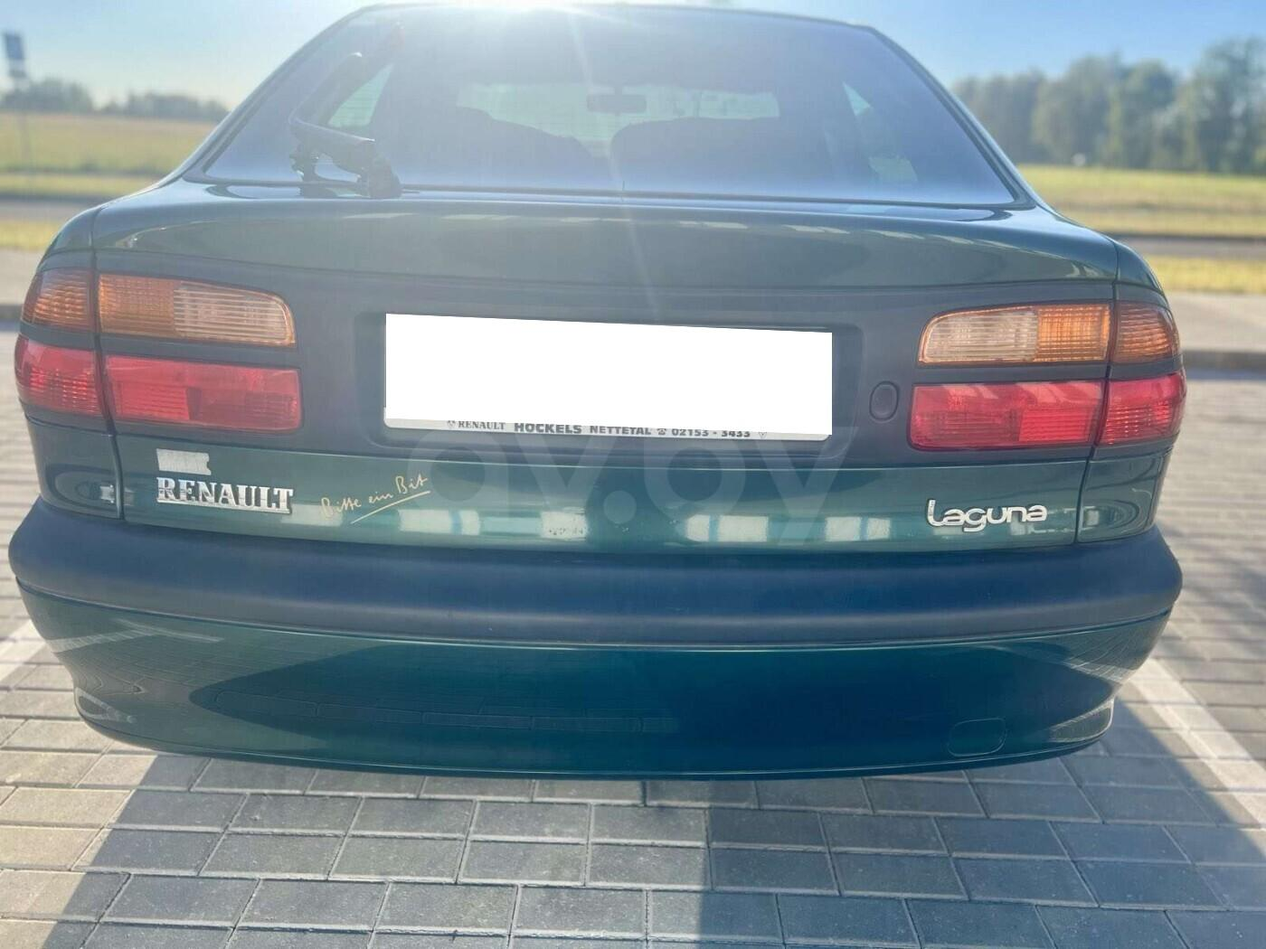Laguna_1998-2001: (0, 0, 1188, 791)
